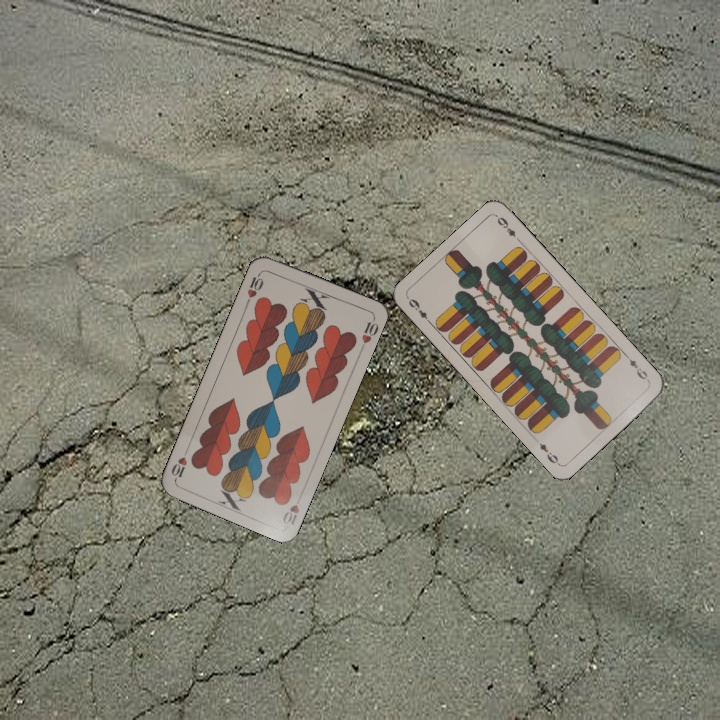E9: (621, 351, 652, 384), (404, 295, 435, 327)
H10: (278, 489, 305, 527), (242, 268, 266, 307)
